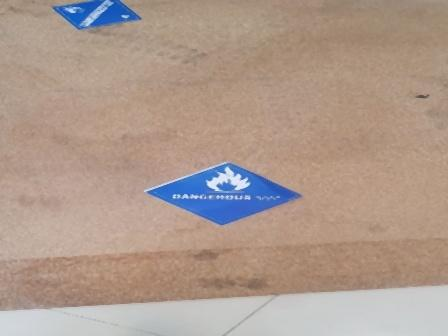dangerous-when-wet: (143, 161, 305, 224), (52, 1, 140, 30)
